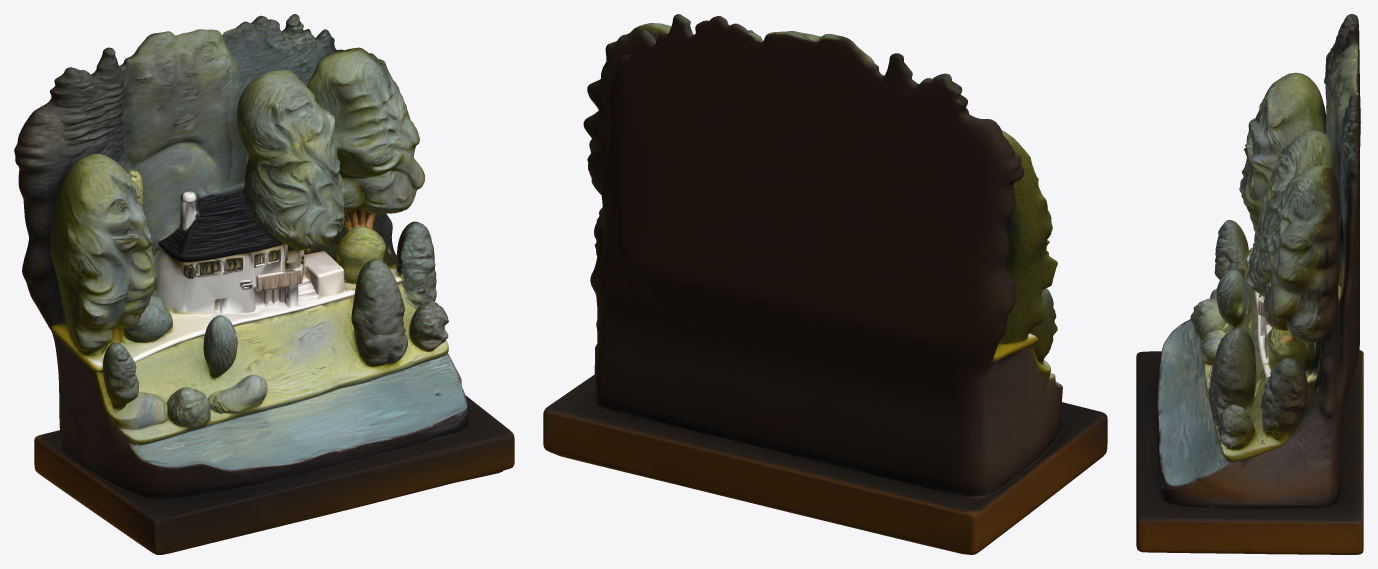
The model's file is klimt-vr-lite.glb.
The picture shows the model from 3 angles, left to right: view 1: azimuth 30°, elevation 25°; view 2: azimuth 150°, elevation 25°; view 3: azimuth 270°, elevation 25°; orthographic projection. The views are drawn at different scales.
Parts seen in each view (by area): view 1: material; view 2: material; view 3: material.
Part boxes in pixels (x1,y1,x2,y2): material: (14, 14, 514, 554); material: (543, 14, 1107, 554); material: (1136, 14, 1363, 554).
Size of the model in its own units: 0.8119 by 0.8092 by 0.4194.
Materials: 1 (1 with a texture image).
